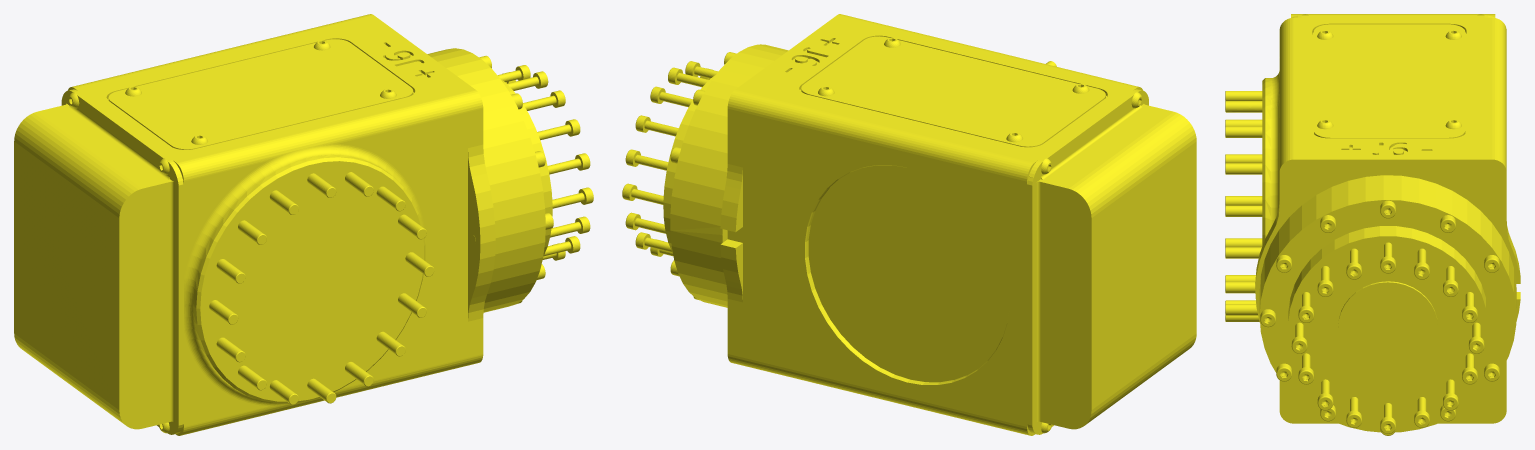
The picture shows the model from 3 angles, left to right: view 1: azimuth 30°, elevation 25°; view 2: azimuth 150°, elevation 25°; view 3: azimuth 270°, elevation 25°; orthographic projection. The views are drawn at different scales.
Parts seen in each view (by area): view 1: Link5; view 2: Link5; view 3: Link5.
Boxes of the visible parts, left/top/right/bottom form: Link5: left=14, top=14, right=593, bottom=435; Link5: left=622, top=14, right=1196, bottom=435; Link5: left=1225, top=14, right=1520, bottom=435.
Size of the model in its own units: 0.1865 by 0.1034 by 0.1053.
